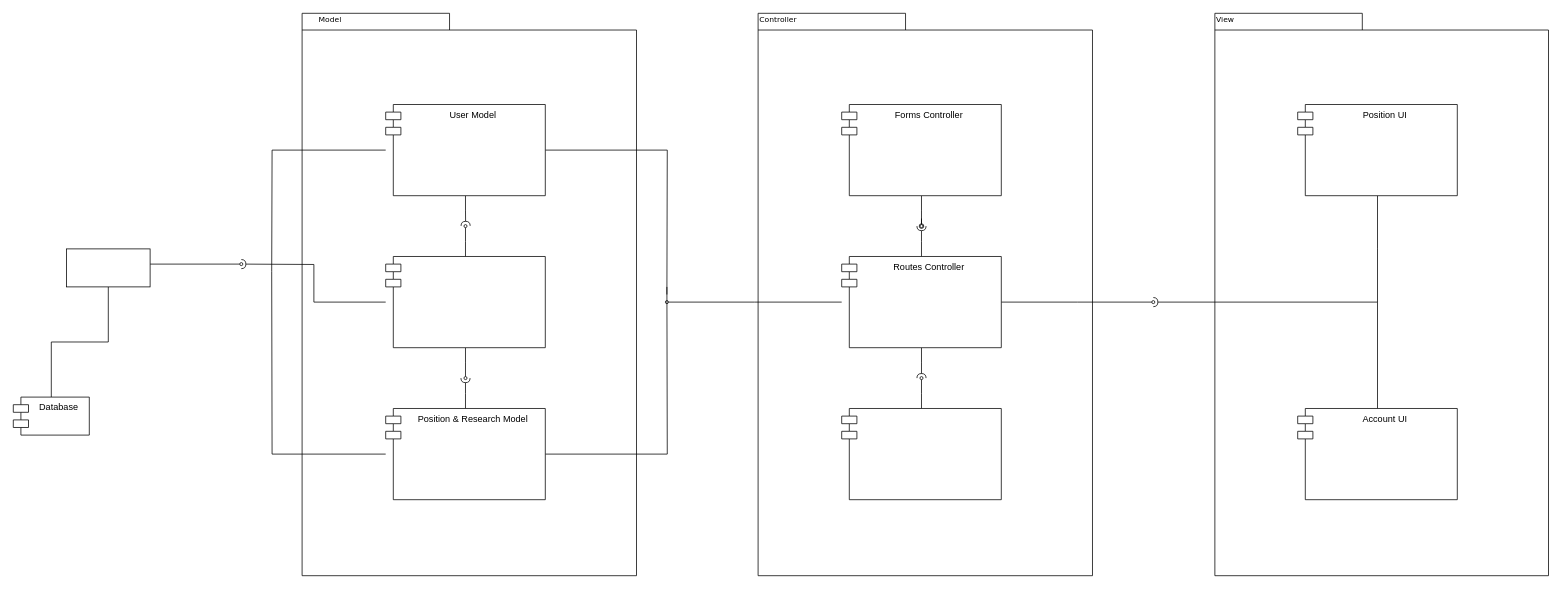
The diagram is 1562 pixels wide and 595 high, and some of its shapes have lost their labels. Here are the shapes that lost their labels. From the top down, the centre of each, then its label:
At [108,267]: "SQLAlchemy".
At [465,302]: "Table Associations".
At [921,454]: "Errors".
